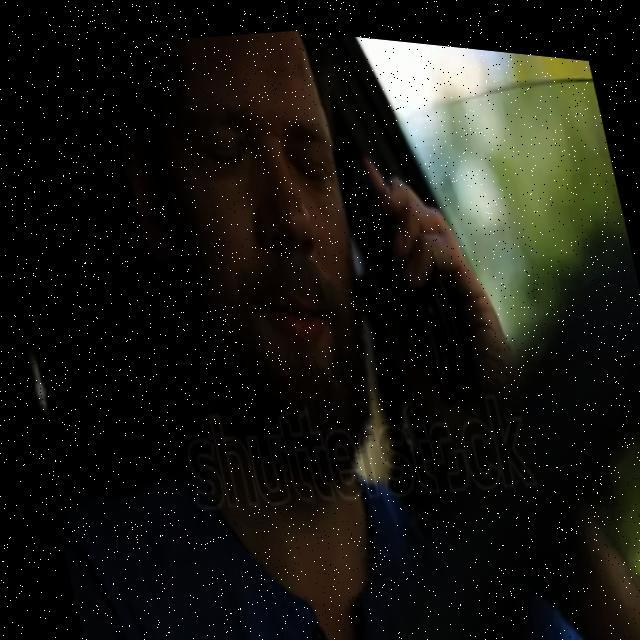PhoneCall: (344, 137, 479, 418)
